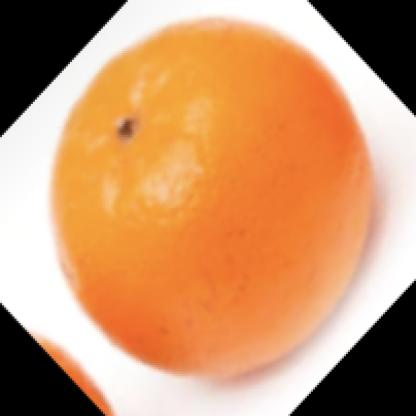fresh: (55, 22, 374, 381)
